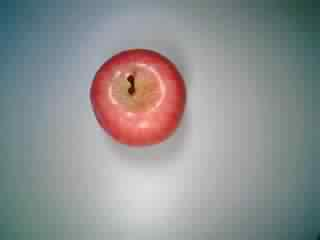apple: (86, 44, 191, 146)
